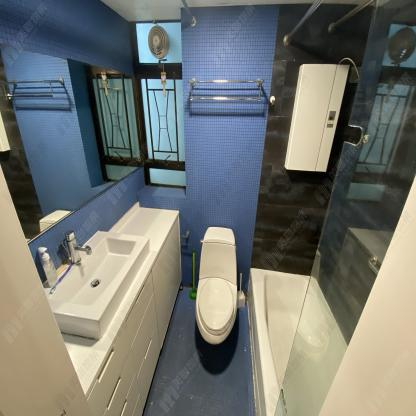Bathtub: (246, 266, 348, 416)
Exhaust Fan: (145, 23, 174, 62)
Faucet: (64, 226, 91, 264)
Toilet: (190, 218, 240, 359)
Toilet Sink: (43, 230, 150, 339)
Water Heater: (284, 62, 349, 171)
